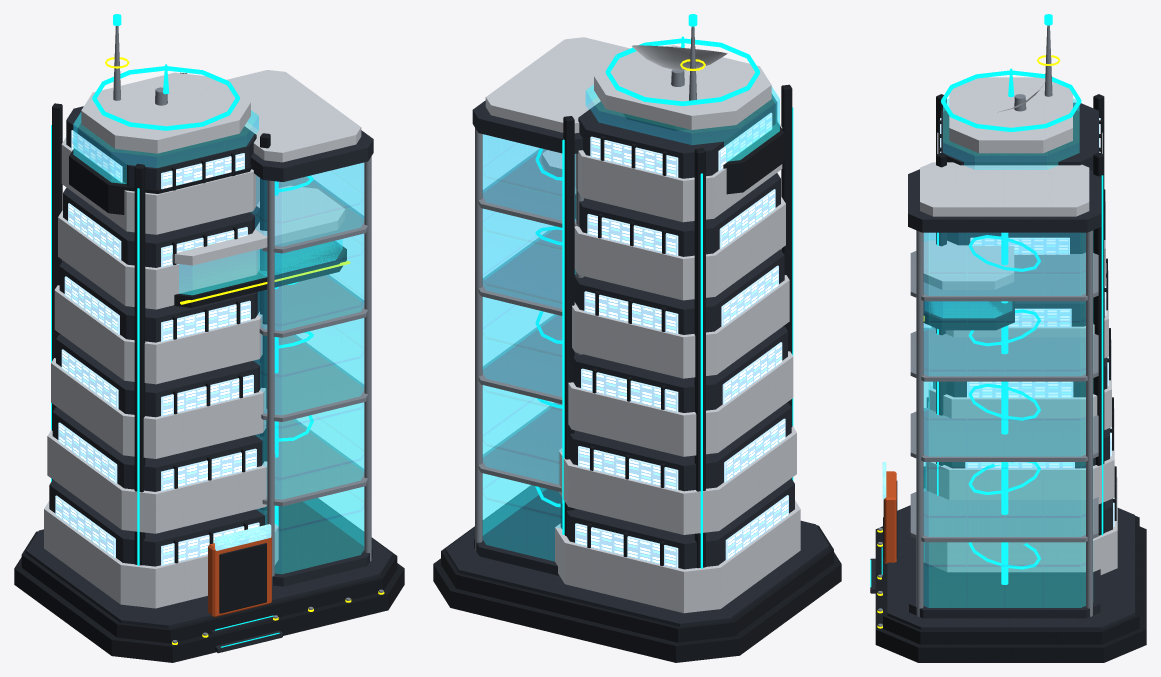
File: bldg_11_r1_05.glb
3 renders of one model, left to right at view 1: azimuth 30°, elevation 25°; view 2: azimuth 150°, elevation 25°; view 3: azimuth 270°, elevation 25°, orthographic. The views are drawn at different scales.
Parts seen in each view (by area): view 1: Bldg11_C05_aero_white, Bldg11_C05_glass_cyan, Bldg11_C05_carbon_slate, Bldg11_C05_gunmetal, Bldg11_C05_steel_machined, Bldg11_C05_window_lit, Bldg11_C05_led_cyan, Bldg11_C05_accent_orange, Bldg11_C05_marquee, Bldg11_C05_led_amber; view 2: Bldg11_C05_aero_white, Bldg11_C05_carbon_slate, Bldg11_C05_glass_cyan, Bldg11_C05_gunmetal, Bldg11_C05_steel_machined, Bldg11_C05_window_lit, Bldg11_C05_led_cyan; view 3: Bldg11_C05_glass_cyan, Bldg11_C05_aero_white, Bldg11_C05_steel_machined, Bldg11_C05_carbon_slate, Bldg11_C05_gunmetal, Bldg11_C05_led_cyan, Bldg11_C05_window_lit, Bldg11_C05_accent_orange.
Boxes of the visible parts, box(x1,y1,x2,y2) form: Bldg11_C05_aero_white: box(44, 70, 361, 608); Bldg11_C05_glass_cyan: box(73, 110, 364, 573); Bldg11_C05_carbon_slate: box(26, 106, 392, 653); Bldg11_C05_gunmetal: box(14, 72, 404, 662); Bldg11_C05_steel_machined: box(113, 26, 383, 643); Bldg11_C05_window_lit: box(55, 130, 259, 565); Bldg11_C05_led_cyan: box(51, 14, 313, 647); Bldg11_C05_accent_orange: box(208, 535, 271, 617); Bldg11_C05_marquee: box(215, 524, 271, 550); Bldg11_C05_led_amber: box(105, 57, 384, 644); Bldg11_C05_aero_white: box(485, 37, 800, 613); Bldg11_C05_carbon_slate: box(445, 94, 829, 626); Bldg11_C05_glass_cyan: box(482, 85, 779, 561); Bldg11_C05_gunmetal: box(433, 84, 841, 662); Bldg11_C05_steel_machined: box(475, 26, 696, 550); Bldg11_C05_window_lit: box(575, 113, 788, 568); Bldg11_C05_led_cyan: box(535, 14, 793, 568); Bldg11_C05_glass_cyan: box(923, 98, 1093, 607); Bldg11_C05_aero_white: box(920, 77, 1117, 574); Bldg11_C05_steel_machined: box(878, 25, 1098, 626); Bldg11_C05_carbon_slate: box(870, 103, 1134, 629); Bldg11_C05_gunmetal: box(875, 94, 1146, 662); Bldg11_C05_led_cyan: box(870, 14, 1103, 587); Bldg11_C05_window_lit: box(931, 118, 1114, 526); Bldg11_C05_accent_orange: box(884, 471, 896, 563).
Bounding box in the file's own units: 12.5 × 23.32 × 10.71.
Materials: 10 (10 with a texture image).
